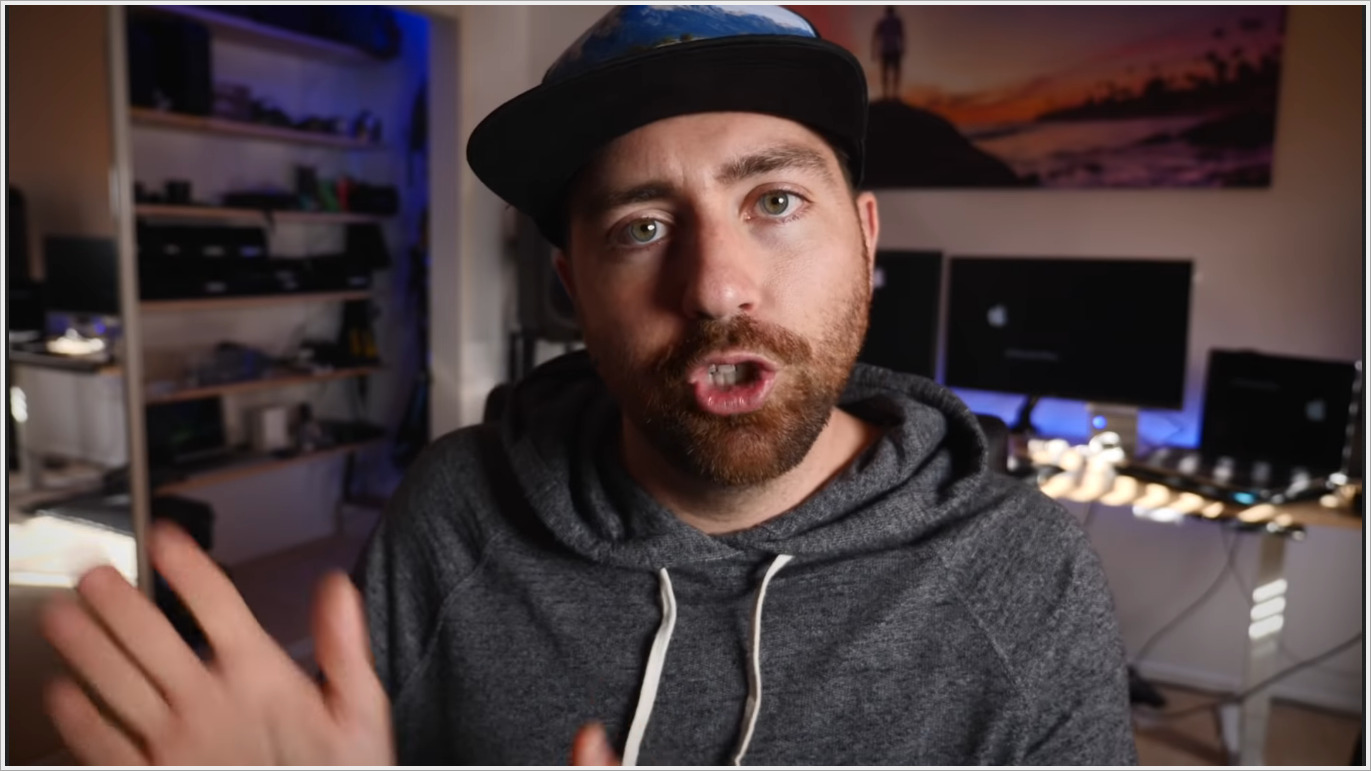hand: (14, 522, 397, 765), (565, 718, 619, 766)
